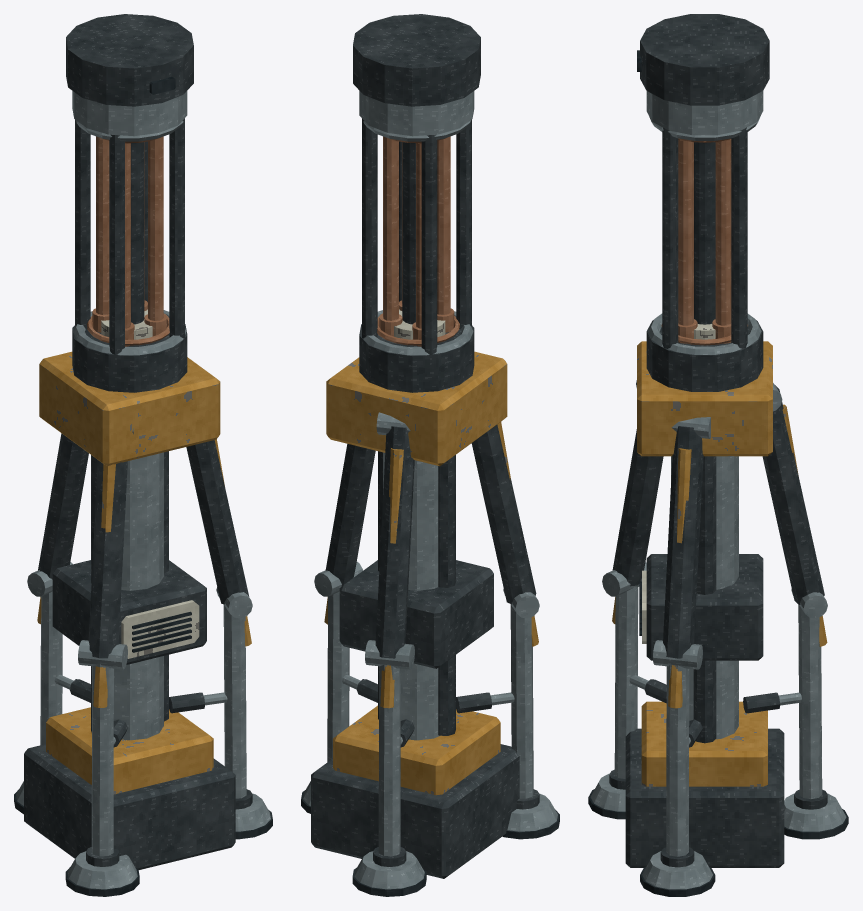
File: resonance_tower_folded.glb
3 views of the same model, side by side, from view 1: azimuth 30°, elevation 25°; view 2: azimuth 150°, elevation 25°; view 3: azimuth 270°, elevation 25° (orthographic).
Visible parts, largest first — view 1: resonance_tower_folded; view 2: resonance_tower_folded; view 3: resonance_tower_folded.
Part boxes in pixels (x1=…): resonance_tower_folded: x1=14, y1=14, x2=272, y2=896; resonance_tower_folded: x1=301, y1=14, x2=559, y2=896; resonance_tower_folded: x1=588, y1=14, x2=848, y2=896.
Bounding box in the file's own units: 0.7932 × 2.71 × 0.8026.
Materials: 6 (6 with a texture image).
